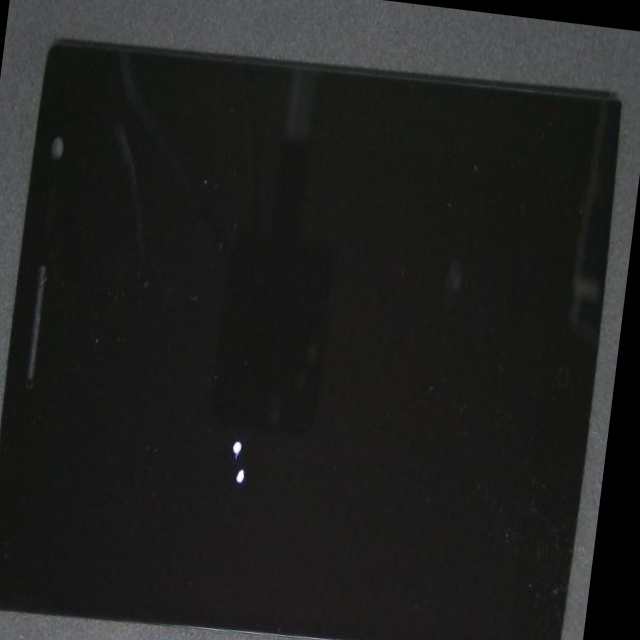stain: (41, 247, 397, 640)
